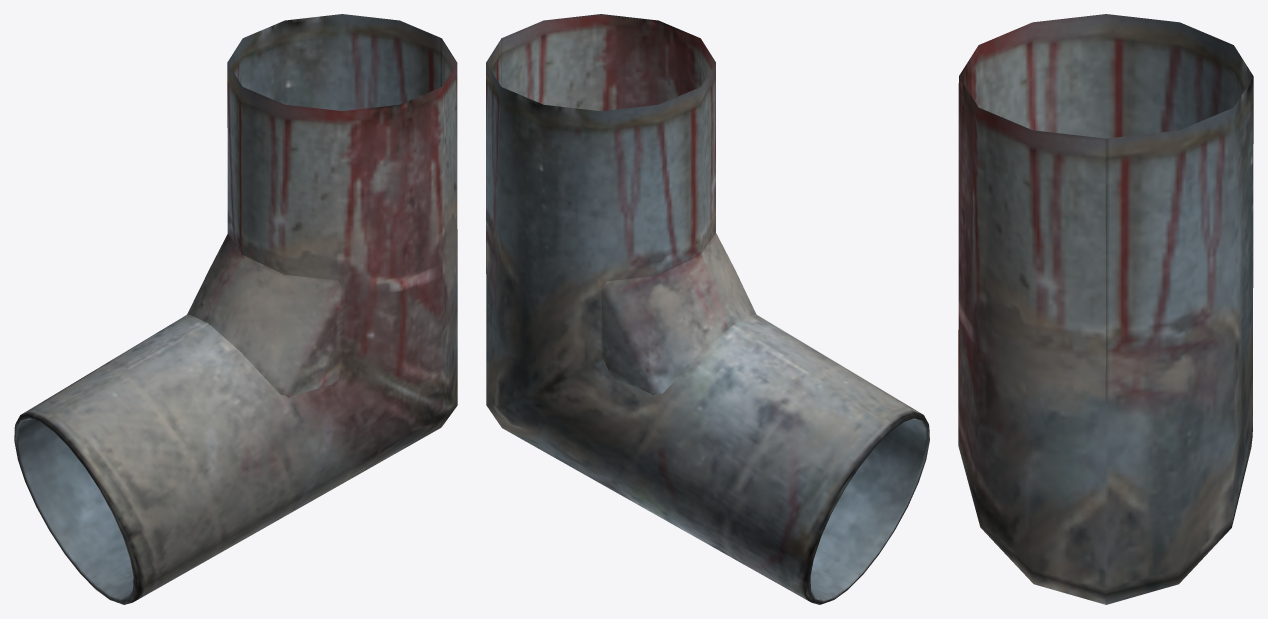
The model's file is sm_Pipe_01_06.fbx.
3 views of the same model, side by side, from view 1: azimuth 30°, elevation 25°; view 2: azimuth 150°, elevation 25°; view 3: azimuth 270°, elevation 25° (orthographic). The views are drawn at different scales.
Visible parts, largest first — view 1: sm_Pipe_01_06_LOD0; view 2: sm_Pipe_01_06_LOD0; view 3: sm_Pipe_01_06_LOD0.
Part boxes in pixels (x1,y1,x2,y2): sm_Pipe_01_06_LOD0: [14, 14, 457, 604]; sm_Pipe_01_06_LOD0: [486, 14, 929, 604]; sm_Pipe_01_06_LOD0: [958, 14, 1253, 604].
Bounding box in the file's own units: 12.46 × 24.73 × 28.35.
